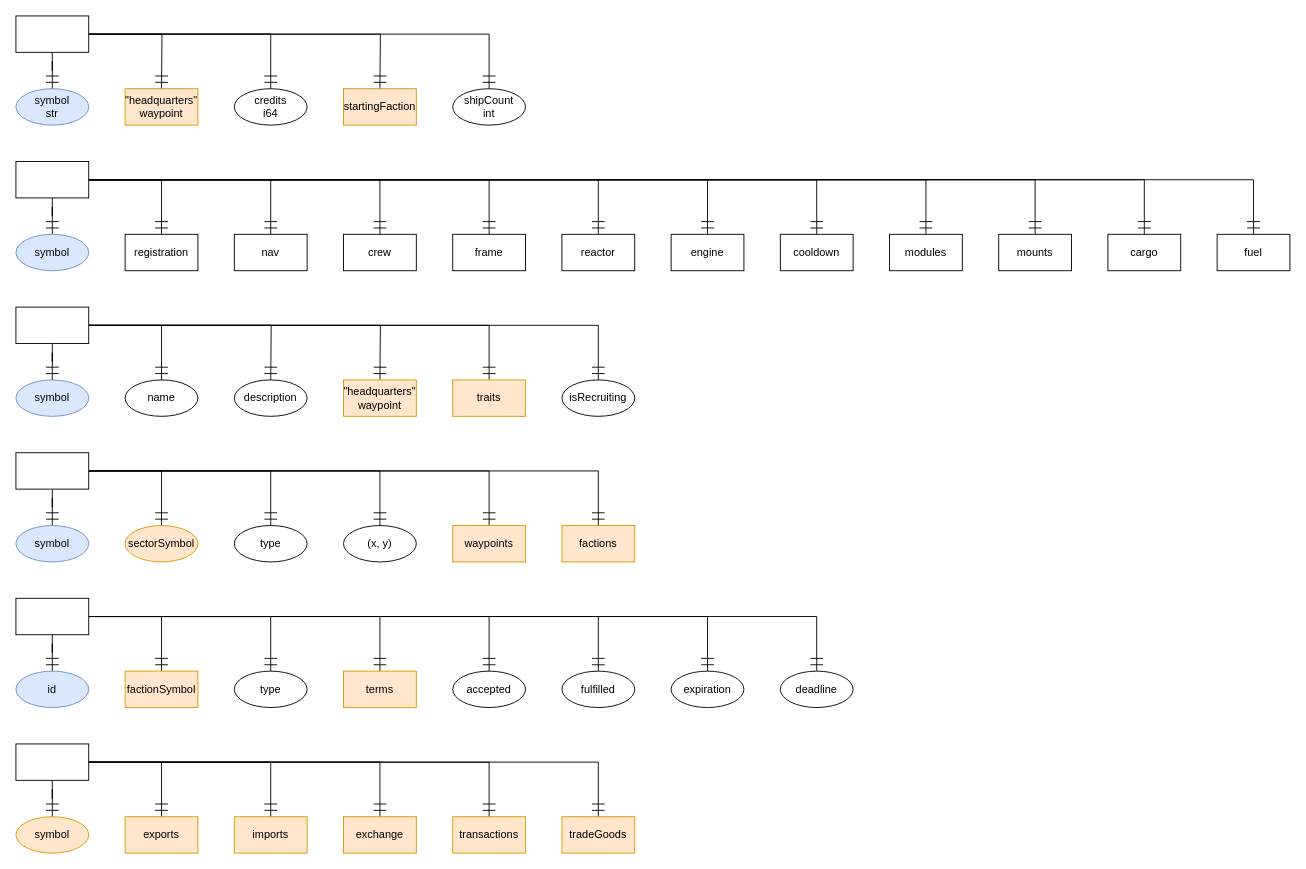
Some shapes in this 1306 by 869 pixel diagram are drawn without their labels. Here are the shapes that lost their labels. From the top down, the centre of each, then its label:
point (52, 33): agent
point (52, 179): ship
point (52, 325): faction
point (52, 470): system
point (52, 616): contract
point (52, 761): market
